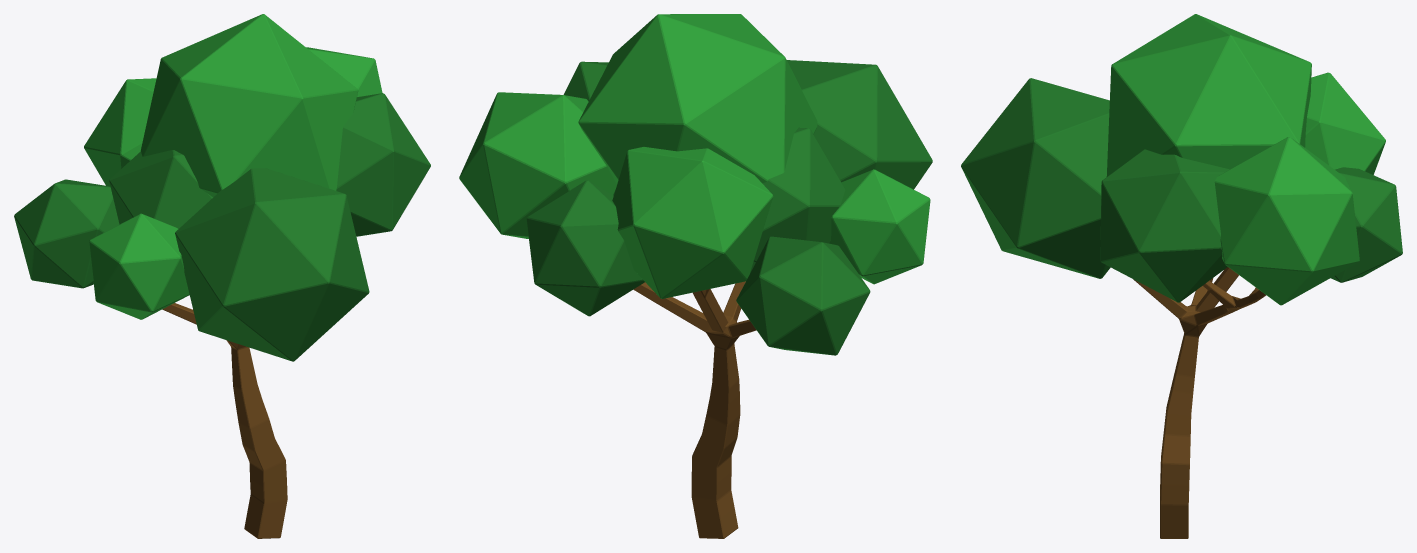
The model's file is tree.fbx.
The picture shows the model from 3 angles, left to right: view 1: azimuth 30°, elevation 25°; view 2: azimuth 150°, elevation 25°; view 3: azimuth 270°, elevation 25°; orthographic projection. The views are drawn at different scales.
Visible parts, largest first — view 1: tree; view 2: tree; view 3: tree.
Boxes of the visible parts, bbox=[...] form: tree: bbox=[14, 14, 430, 538]; tree: bbox=[459, 14, 932, 538]; tree: bbox=[961, 14, 1402, 538].
Bounding box in the file's own units: 2100 × 2779 × 2174.
